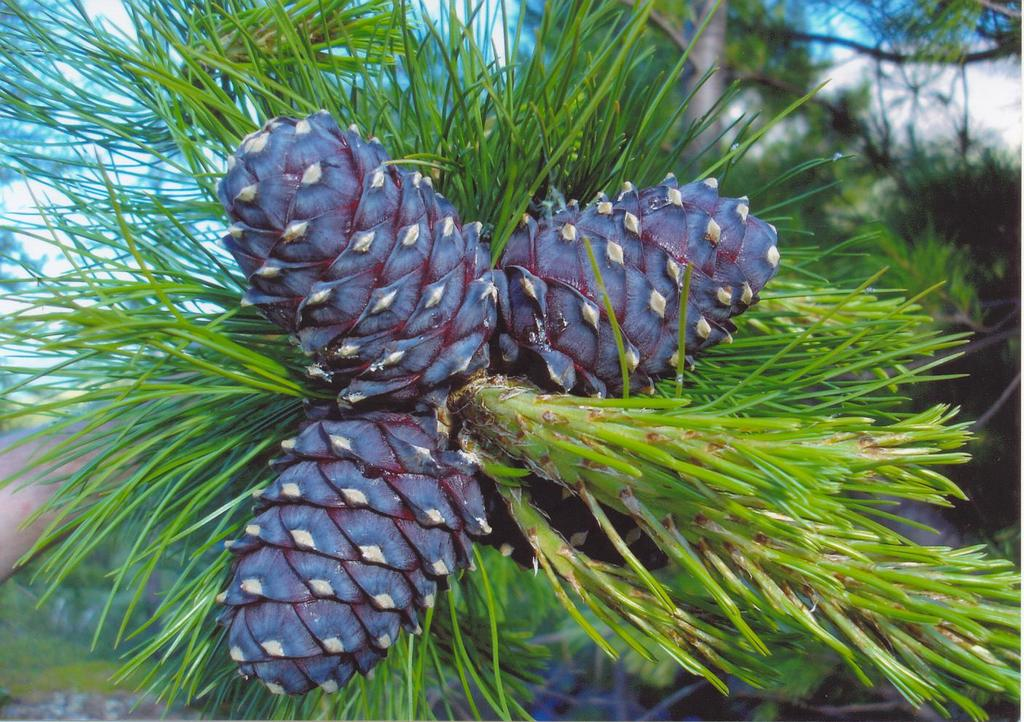Tree: (0, 0, 1020, 722)
